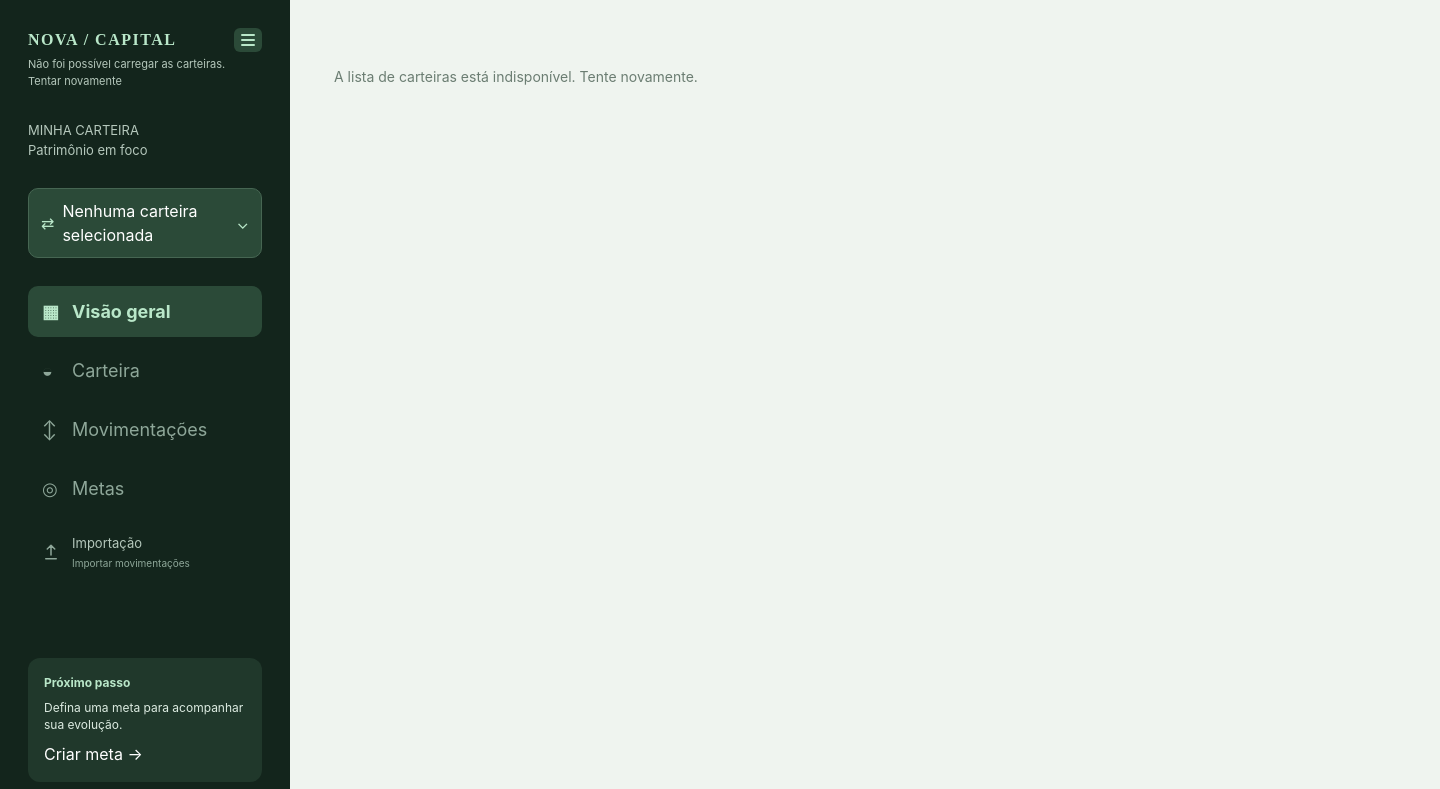
Scenario: I4 — seleção e carregamento › mostra falha da lista mesmo com menu fechado e permite tentar novamente
expect the message "Não foi possível carregar as carteiras. Tentar novamente" is shown: met, box [28, 57, 225, 89]
Click the button "Tentar novamente" at [75, 81], box [28, 72, 122, 89]
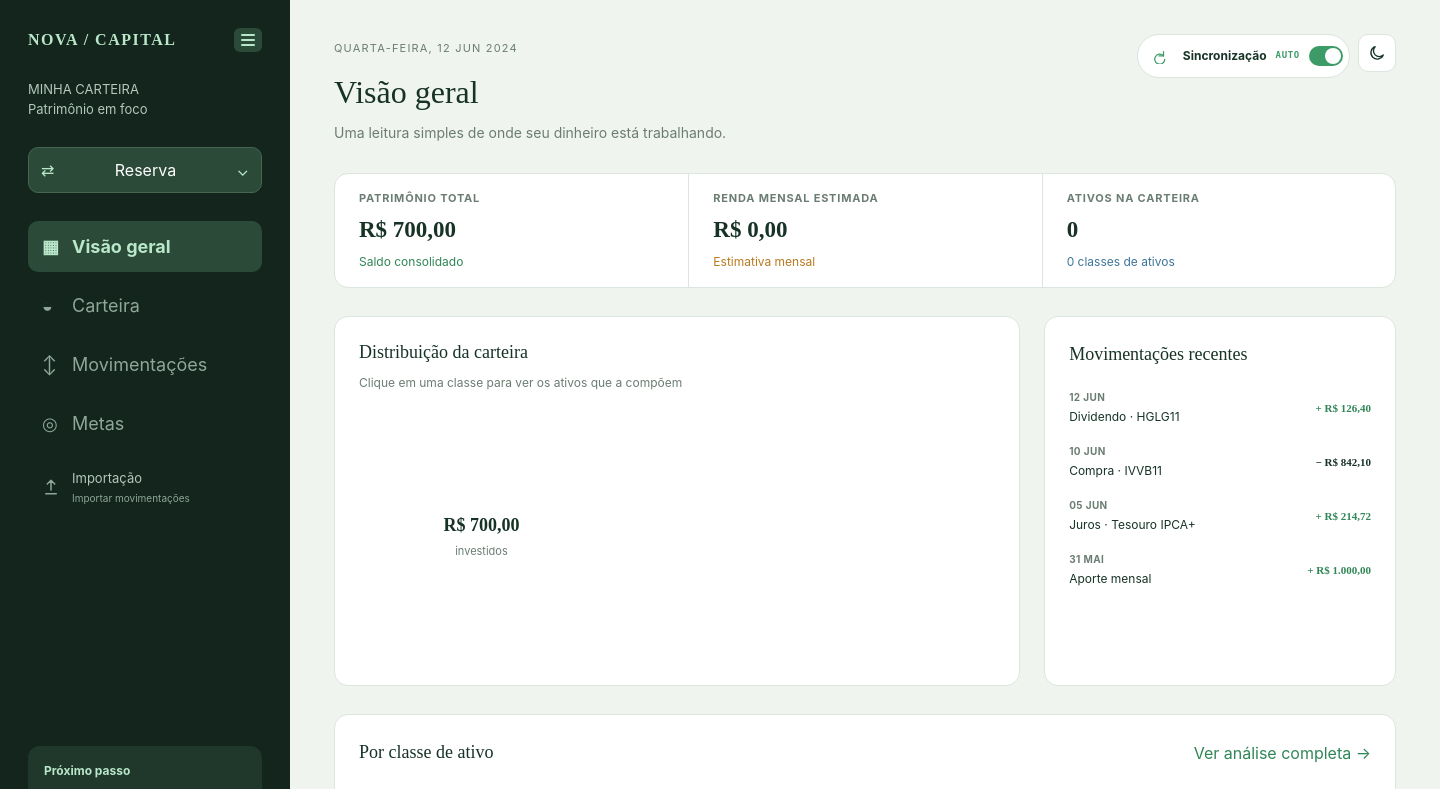
expect the element named "Resumo da carteira" is shown: met, box [334, 173, 1396, 288]
